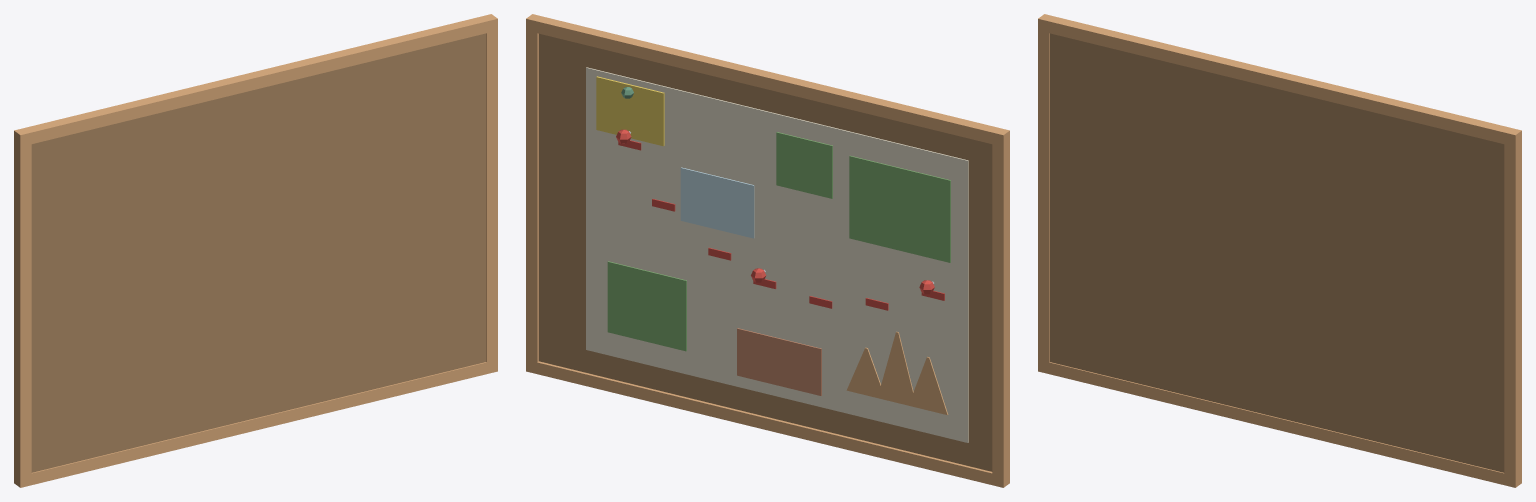
File: wall_map.glb
The picture shows the model from 3 angles, left to right: view 1: azimuth 30°, elevation 25°; view 2: azimuth 150°, elevation 25°; view 3: azimuth 330°, elevation 25°; orthographic projection.
Visible parts, largest first — view 1: WallMap; view 2: WallMap; view 3: WallMap.
Boxes of the visible parts, x1,y1,x2,y2 form: WallMap: [14, 14, 497, 487]; WallMap: [526, 14, 1009, 487]; WallMap: [1038, 14, 1521, 487].
Bounding box in the file's own units: 0.85 × 0.6 × 0.051.
